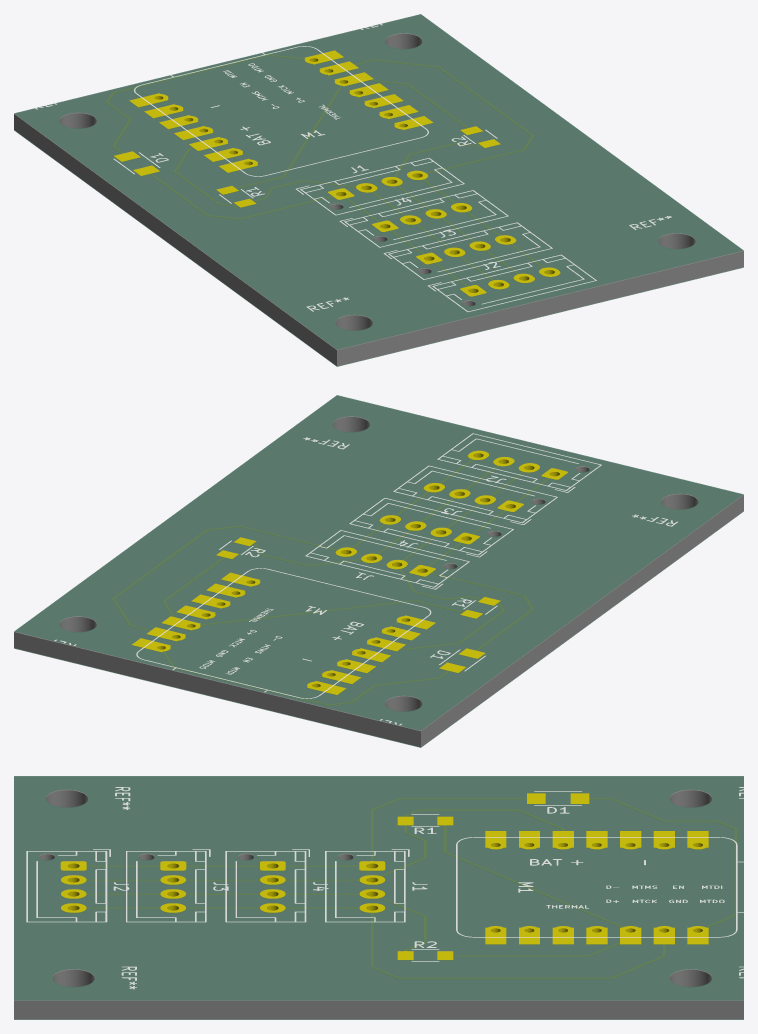
File: mainboard.glb
The picture shows the model from 3 angles, top to bottom: view 1: azimuth 30°, elevation 25°; view 2: azimuth 150°, elevation 25°; view 3: azimuth 270°, elevation 25°; orthographic projection. The views are drawn at different scales.
Visible parts, largest first — view 1: =>[0:1:1:6], =>[0:1:1:4], =>[0:1:1:2], =>[0:1:1:3], =>[0:1:1:5]; view 2: =>[0:1:1:6], =>[0:1:1:4], =>[0:1:1:2], =>[0:1:1:3], =>[0:1:1:5]; view 3: =>[0:1:1:6], =>[0:1:1:4], =>[0:1:1:2], =>[0:1:1:3], =>[0:1:1:5].
Boxes of the visible parts, <box> form: =>[0:1:1:6]: <box>14,15,743,366</box>; =>[0:1:1:4]: <box>14,14,743,349</box>; =>[0:1:1:2]: <box>106,50,560,296</box>; =>[0:1:1:3]: <box>35,23,671,311</box>; =>[0:1:1:5]: <box>14,130,743,366</box>; =>[0:1:1:6]: <box>14,396,743,747</box>; =>[0:1:1:4]: <box>14,395,743,730</box>; =>[0:1:1:2]: <box>113,450,567,705</box>; =>[0:1:1:3]: <box>54,433,677,725</box>; =>[0:1:1:5]: <box>14,511,743,747</box>; =>[0:1:1:6]: <box>14,777,743,1019</box>; =>[0:1:1:4]: <box>14,776,743,1000</box>; =>[0:1:1:2]: <box>60,793,736,978</box>; =>[0:1:1:3]: <box>26,787,743,989</box>; =>[0:1:1:5]: <box>14,1019,743,1019</box>.
Size of the model in its own units: 0.04 by 0.00163 by 0.055.
